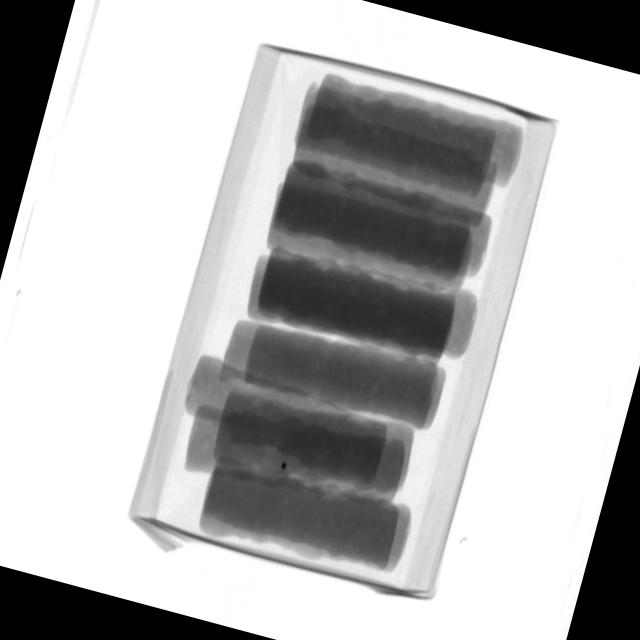ym: (280, 461, 289, 470)
